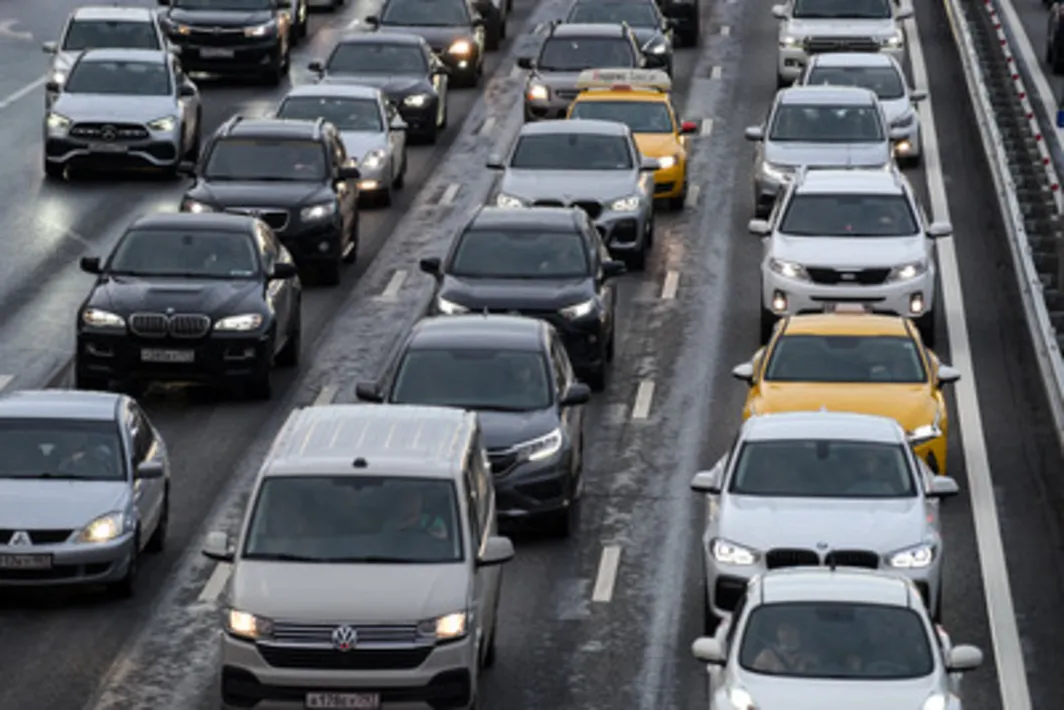Car: (205, 404, 514, 710), (690, 412, 959, 631), (356, 315, 591, 535), (74, 212, 302, 398), (691, 567, 984, 710), (420, 206, 623, 390), (732, 312, 961, 474), (749, 168, 953, 343), (0, 389, 171, 595), (178, 115, 360, 285), (488, 120, 657, 269), (43, 49, 202, 180), (744, 86, 900, 218), (566, 68, 699, 210), (275, 84, 407, 205), (309, 32, 449, 141), (794, 53, 926, 166), (43, 6, 181, 107), (517, 22, 648, 121), (157, 0, 307, 85), (772, 0, 913, 87), (366, 0, 486, 86), (566, 0, 675, 79), (655, 0, 700, 48), (470, 0, 507, 48), (306, 0, 348, 12), (507, 0, 513, 12)
